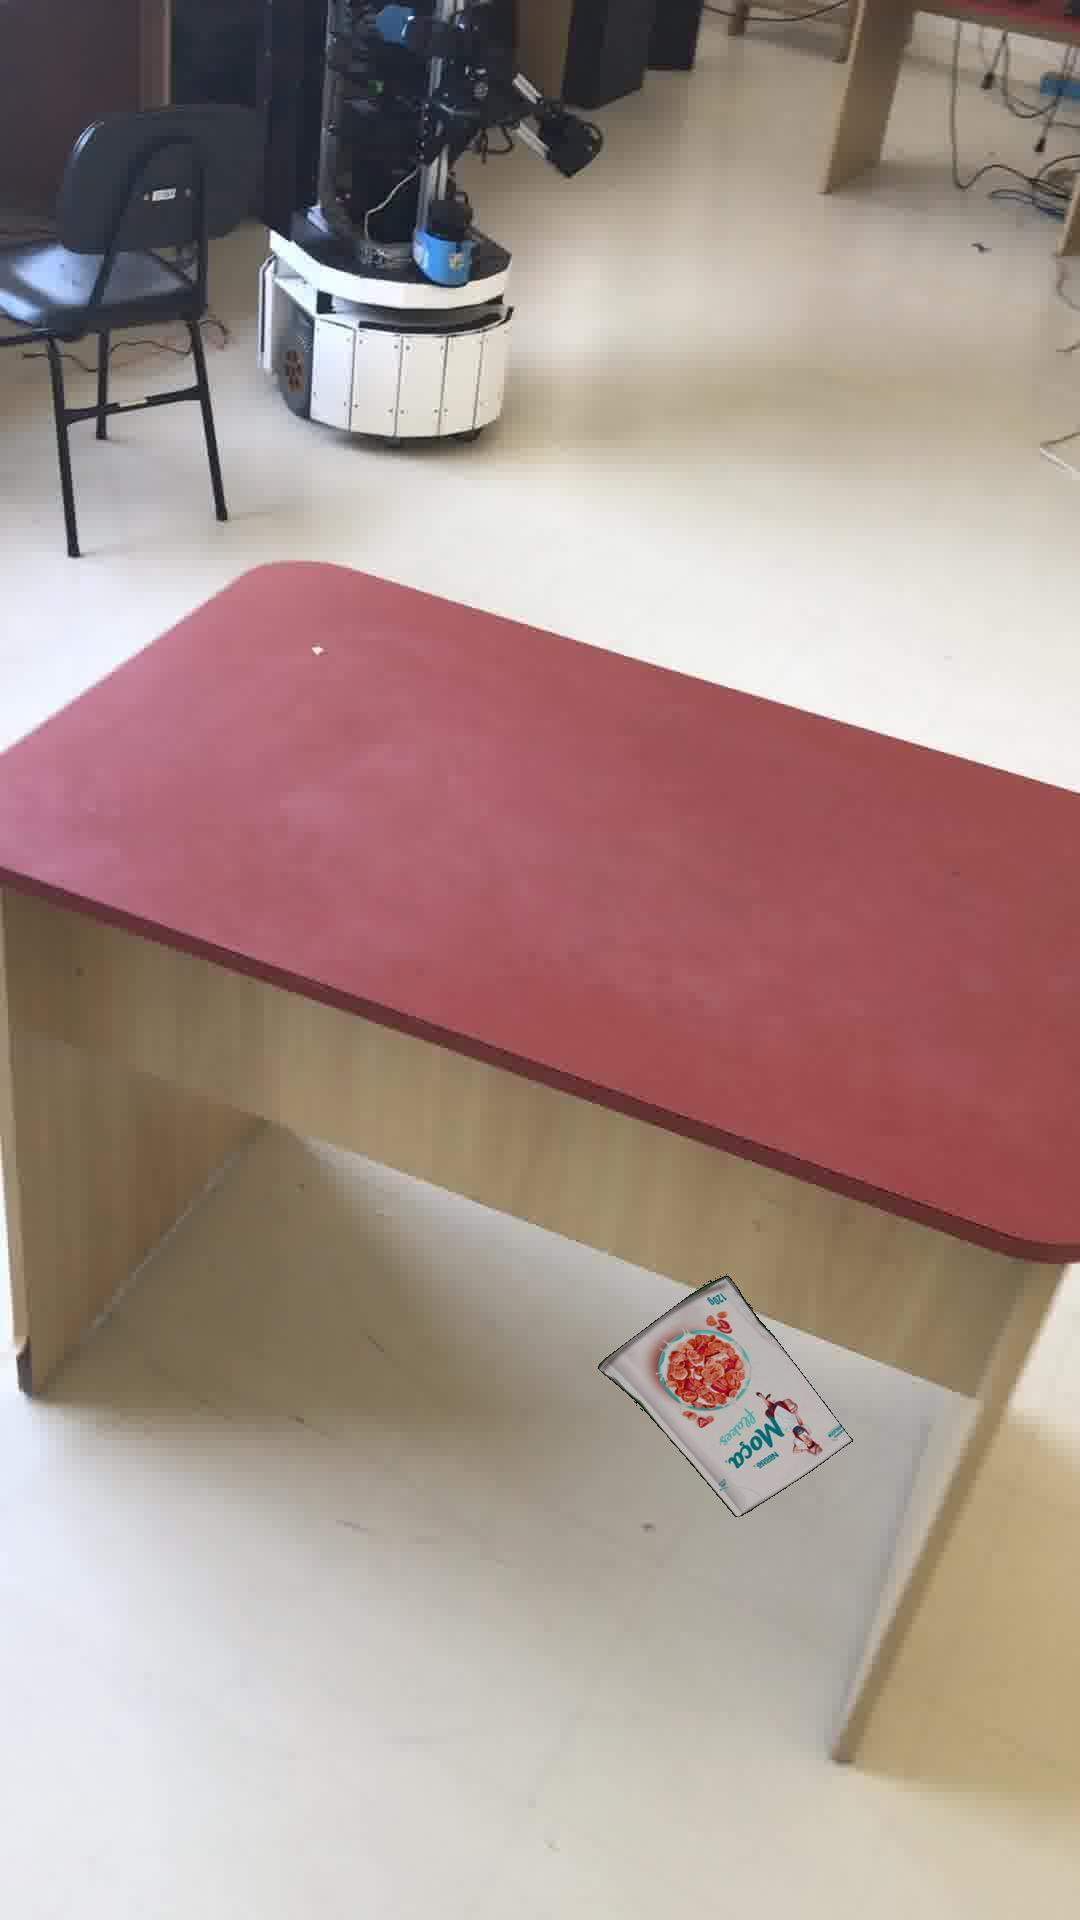corn flakes: (596, 1274, 852, 1515)
